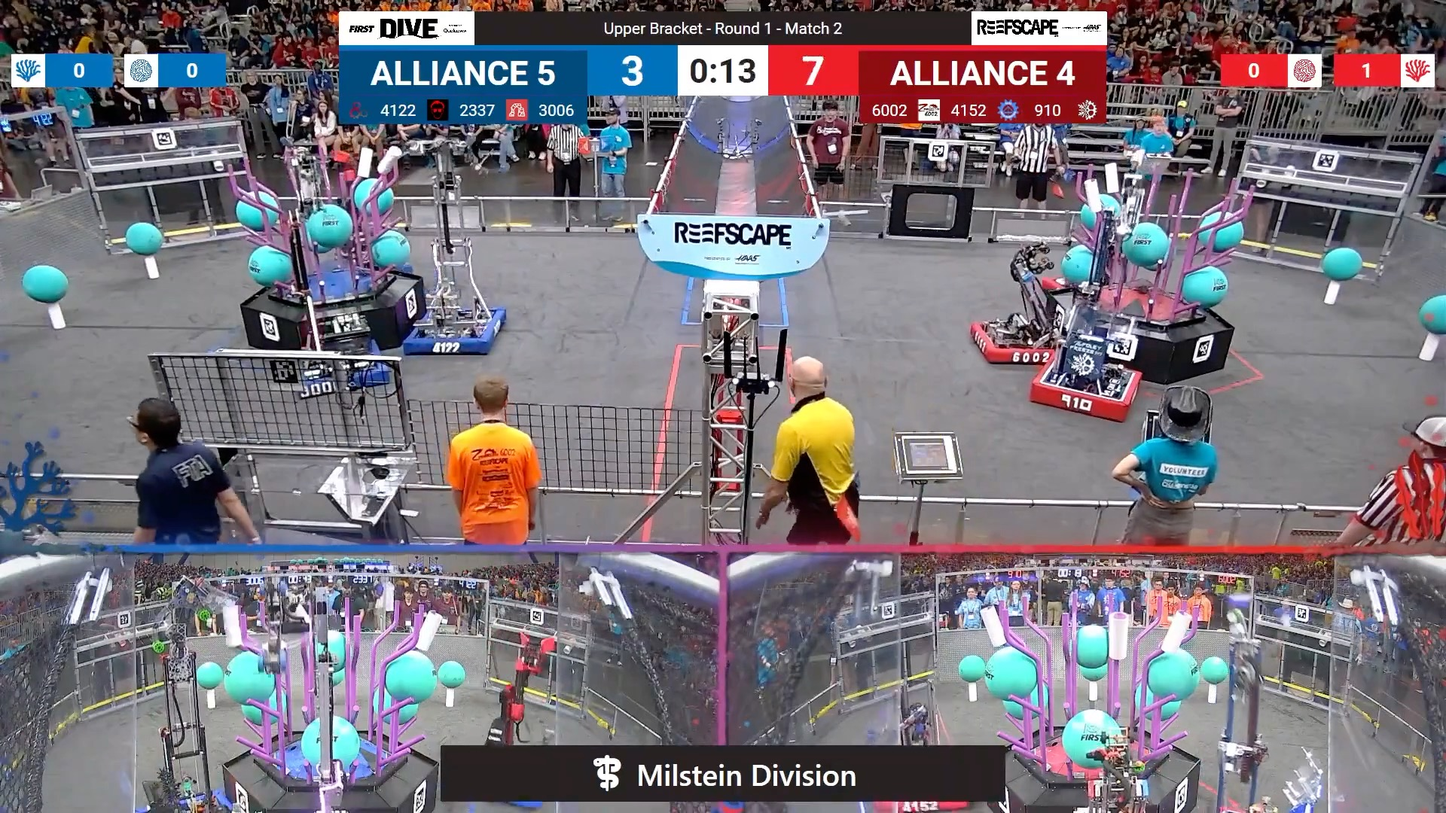bumpers: (1026, 357, 1149, 425), (398, 302, 510, 361), (286, 340, 397, 399), (966, 311, 1072, 370)
